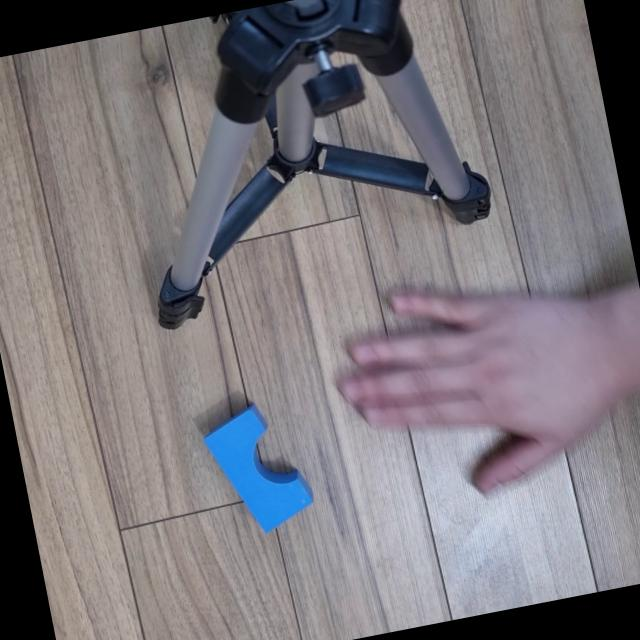block: (195, 394, 317, 544)
hand: (314, 238, 638, 515)
